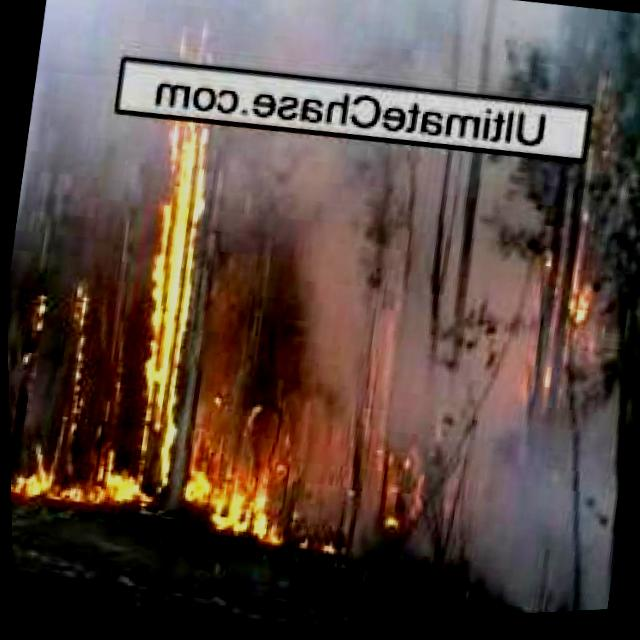Fire: (84, 114, 220, 519), (5, 286, 96, 510), (511, 177, 626, 343), (174, 422, 302, 557), (343, 434, 444, 564)
Smoke: (149, 116, 640, 634)
